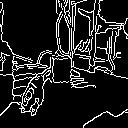cube: (48, 53, 74, 84)
